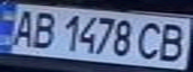1: (57, 11, 81, 52)
4: (75, 12, 100, 54)
7: (93, 15, 118, 55)
8: (112, 17, 139, 57)
A: (6, 7, 42, 48)
B: (154, 20, 193, 63), (27, 8, 60, 51)
C: (133, 19, 169, 61)
